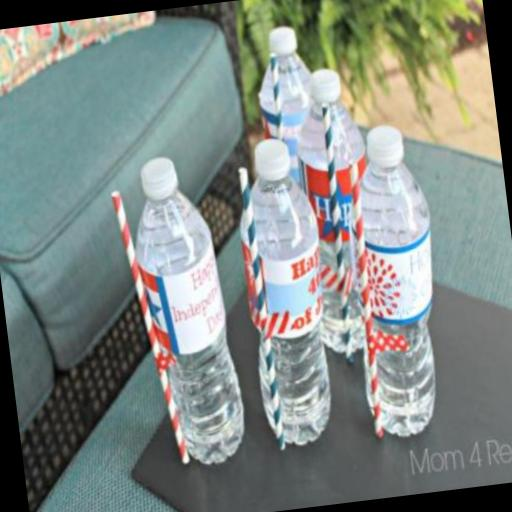Coca: (104, 146, 256, 483), (332, 116, 461, 450), (225, 130, 347, 458), (244, 16, 360, 334), (282, 58, 398, 369)
